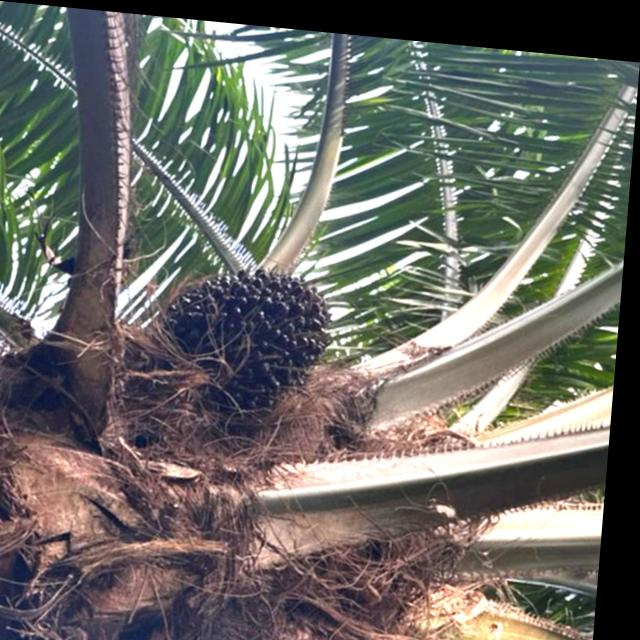almost: (166, 254, 347, 425)
